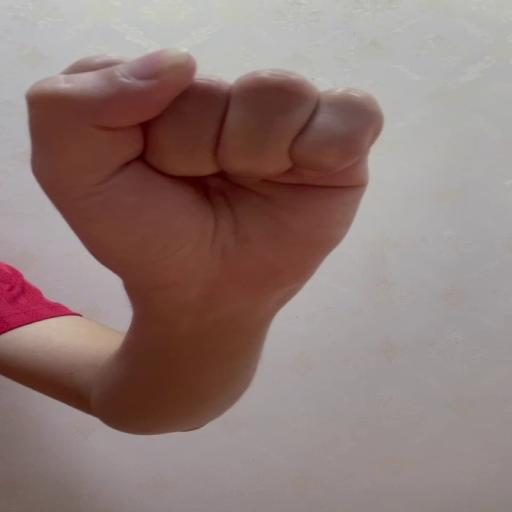fist: (22, 51, 388, 292)
